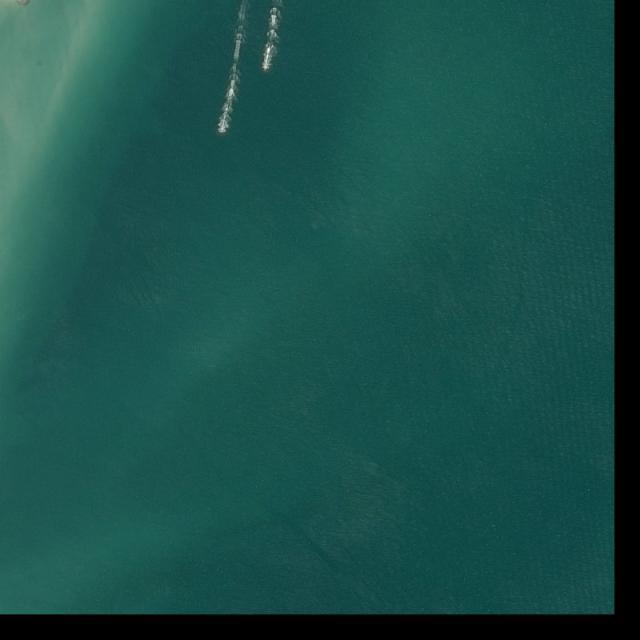ship: (219, 129, 225, 136), (264, 68, 267, 72)
